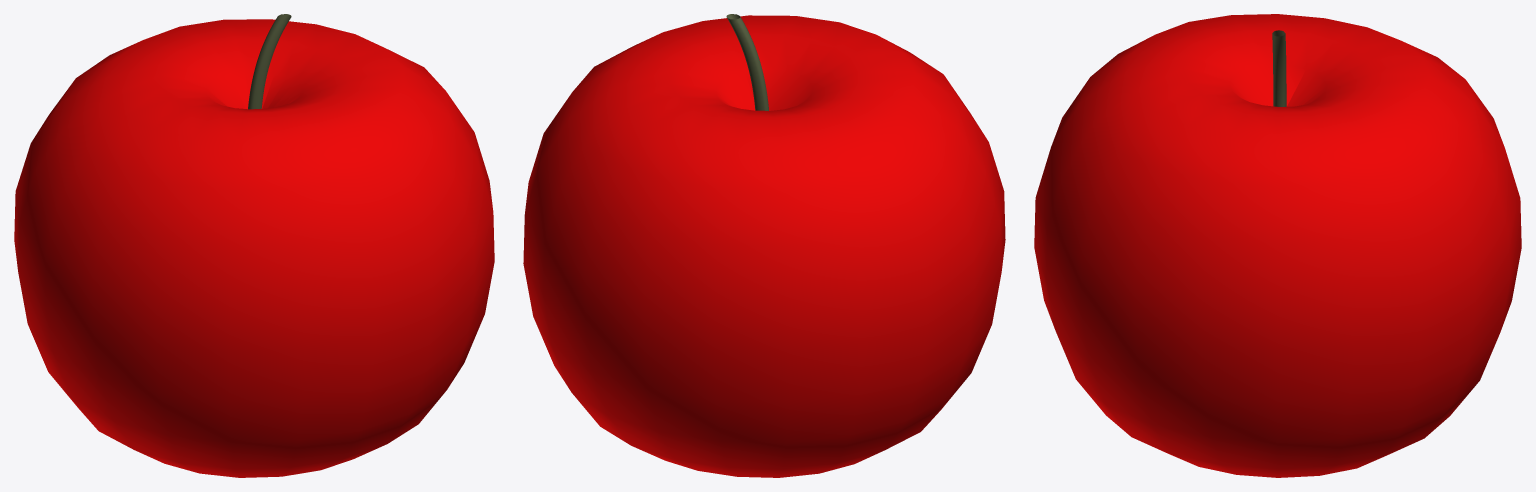
The model's file is maca.fbx.
3 views of the same model, side by side, from view 1: azimuth 30°, elevation 25°; view 2: azimuth 150°, elevation 25°; view 3: azimuth 270°, elevation 25° (orthographic).
Parts seen in each view (by area): view 1: nurbsToPoly1, nurbsToPoly2; view 2: nurbsToPoly1, nurbsToPoly2; view 3: nurbsToPoly1, nurbsToPoly2.
Part boxes in pixels (x1,y1,x2,y2): nurbsToPoly1: [14, 19, 494, 477]; nurbsToPoly2: [248, 14, 291, 109]; nurbsToPoly1: [523, 15, 1005, 477]; nurbsToPoly2: [726, 14, 768, 110]; nurbsToPoly1: [1034, 14, 1521, 477]; nurbsToPoly2: [1272, 30, 1286, 106].
Size of the model in its own units: 5.28 by 4.98 by 5.26.
